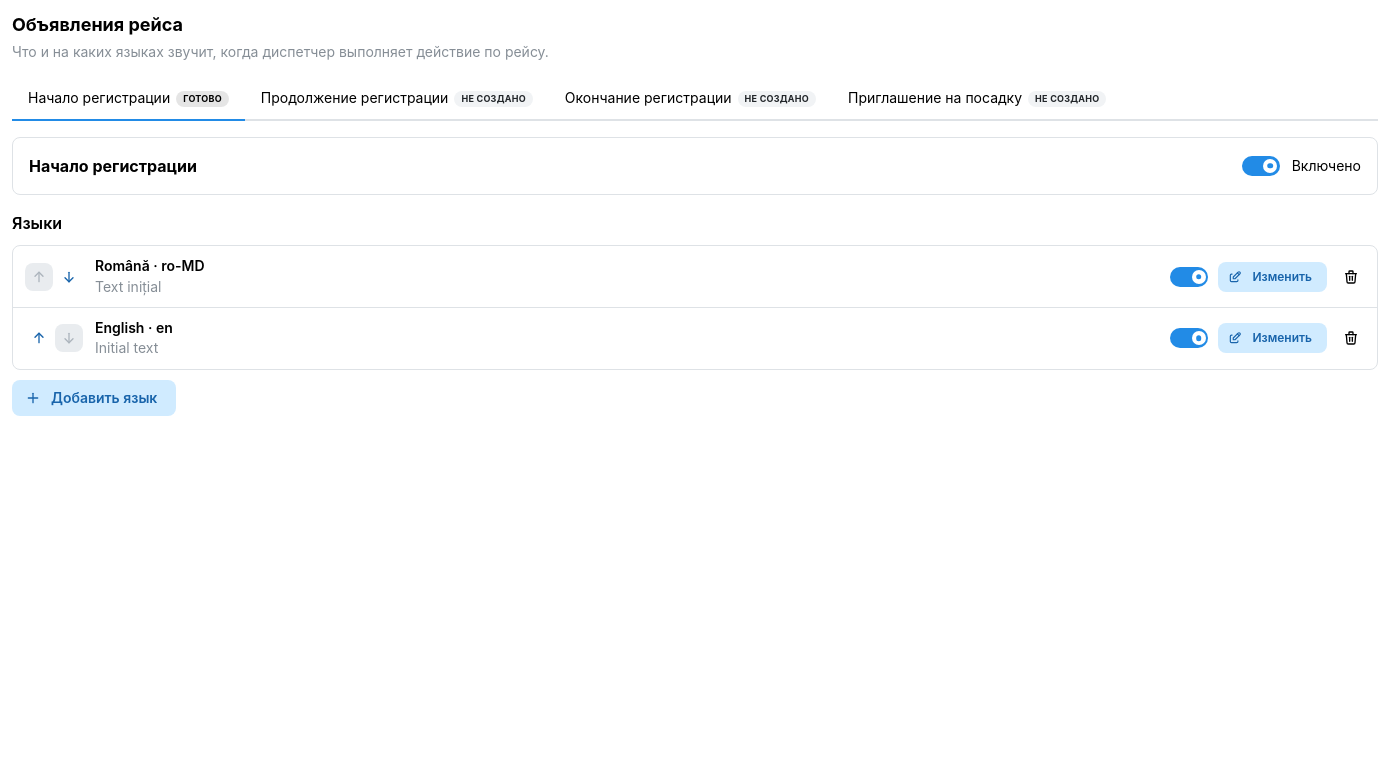
Test case: FlightAnnouncementConfigsPanel › keeps a single editor open at a time
expect the text "English · en" is shown: met, box [95,319,173,336]
Click the button "Изменить" in the row of "Română · ro-MD" at [1273, 277], box [1218,262,1327,292]
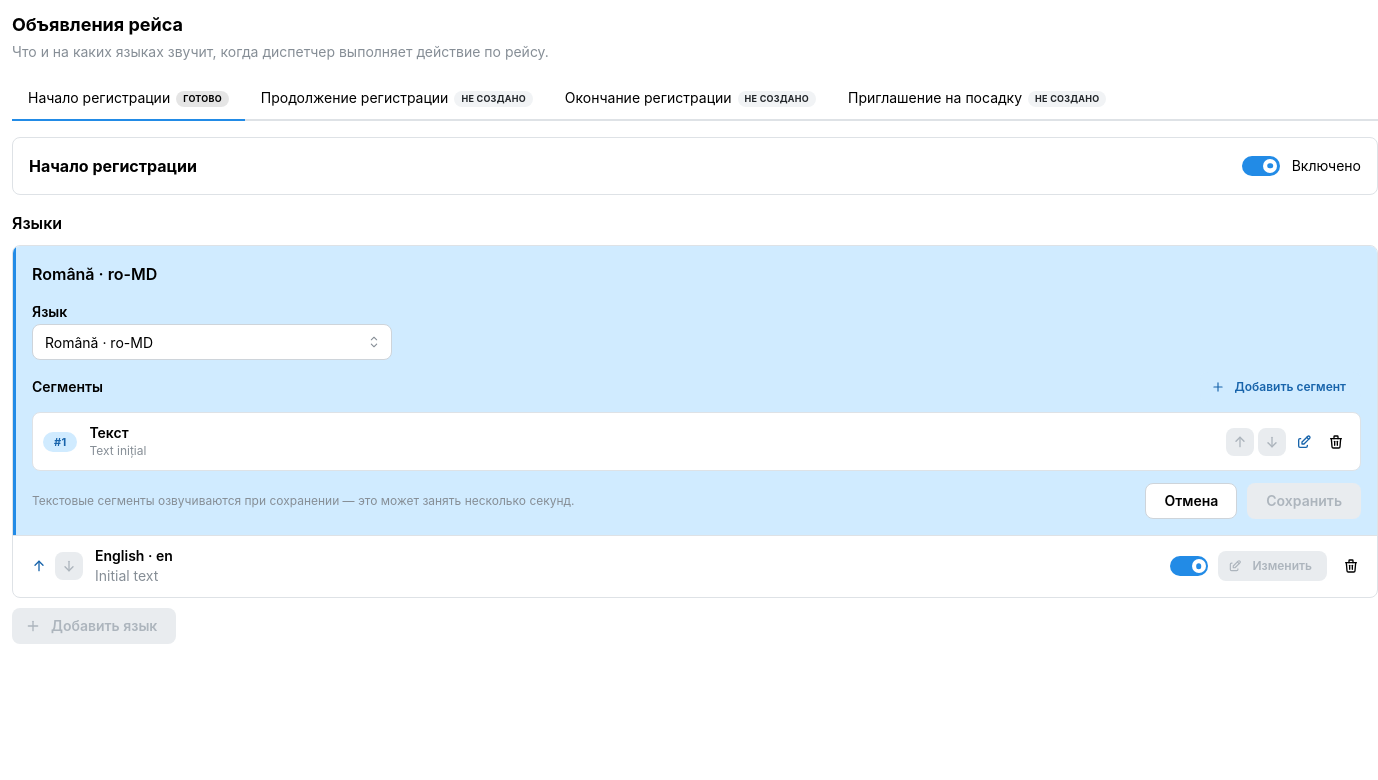
expect the button "Изменить" is disabled: met, box [1218,552,1327,582]
expect the button "Добавить язык" is disabled: met, box [12,608,176,644]
